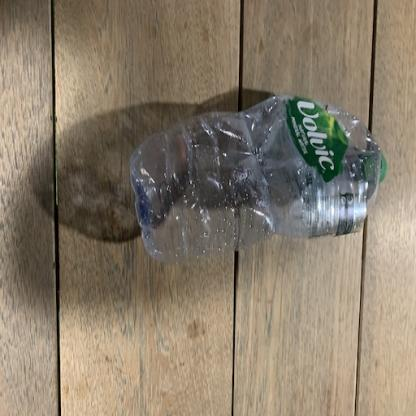trash: (131, 92, 384, 261)
